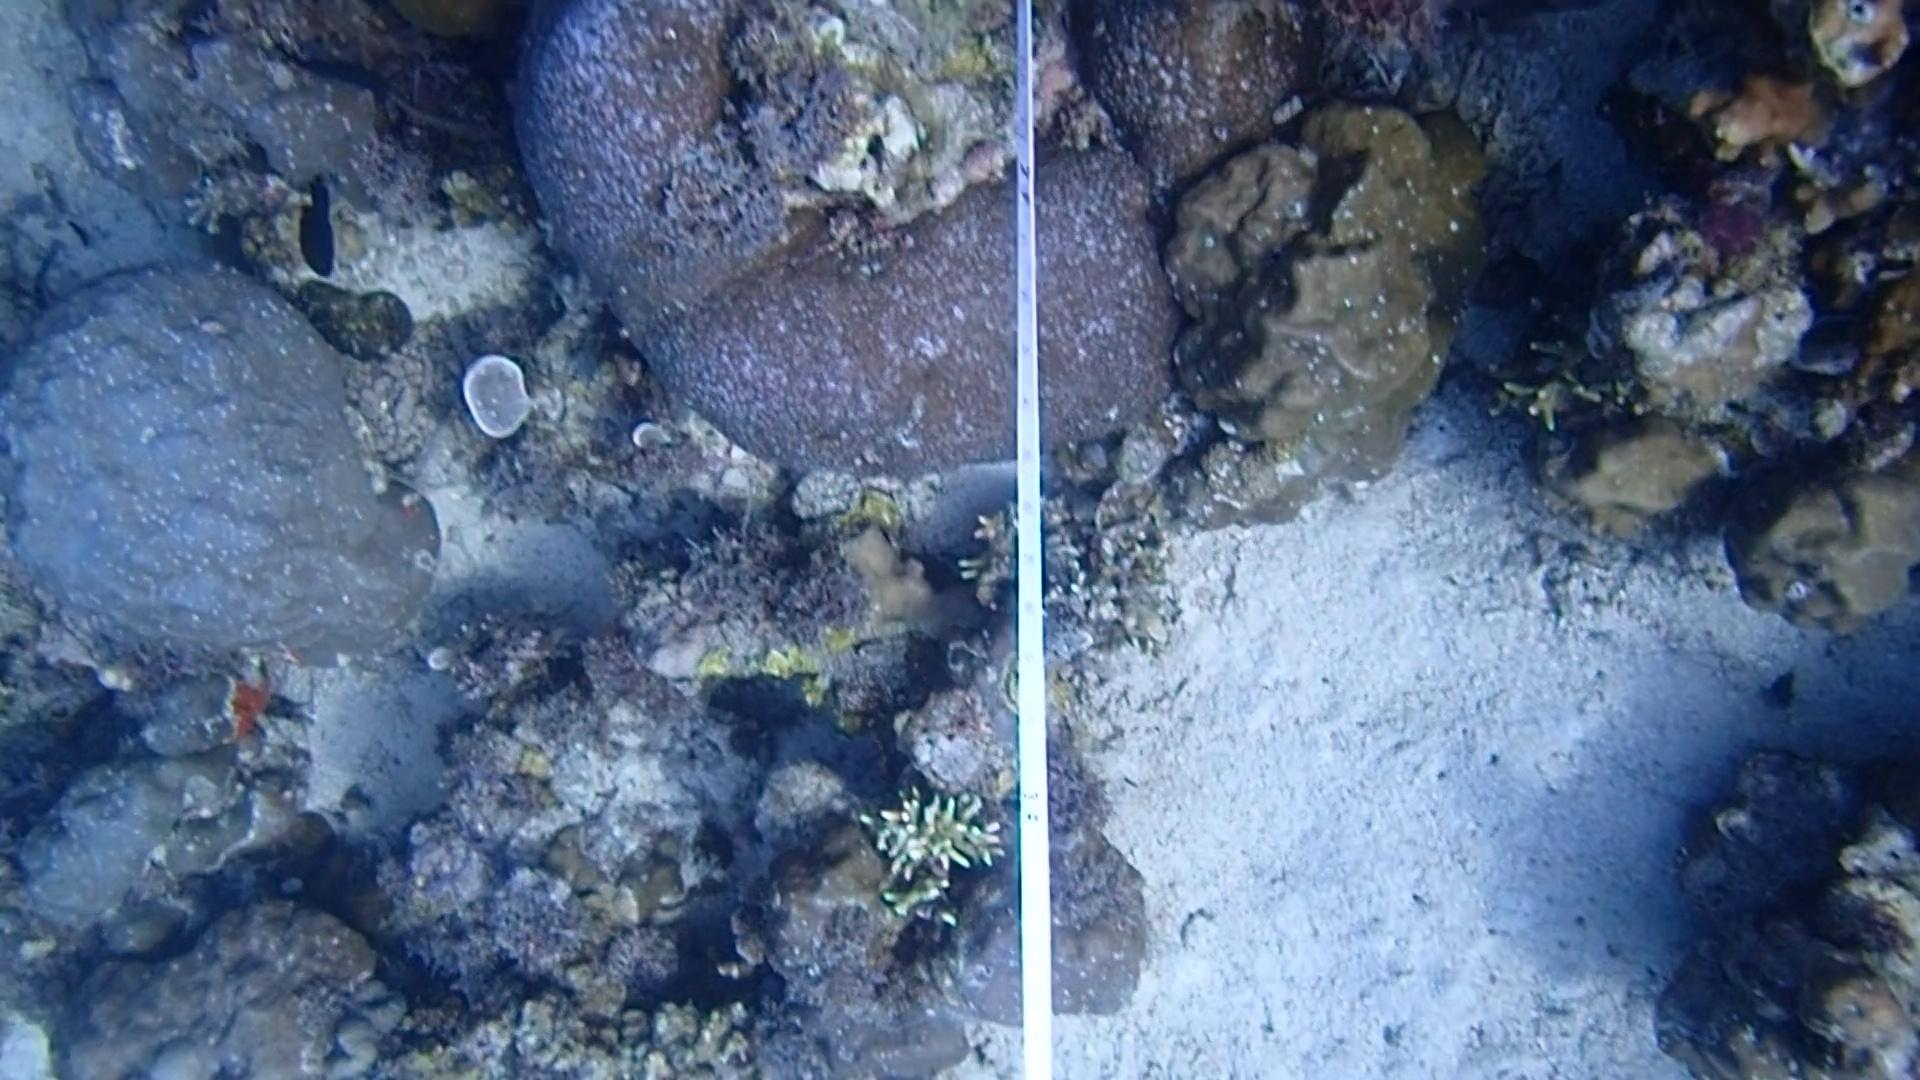Dark Fish: (286, 169, 348, 284)
